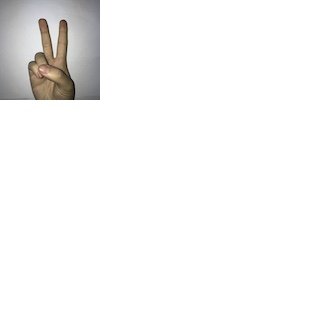scissors: (19, 15, 79, 98)
